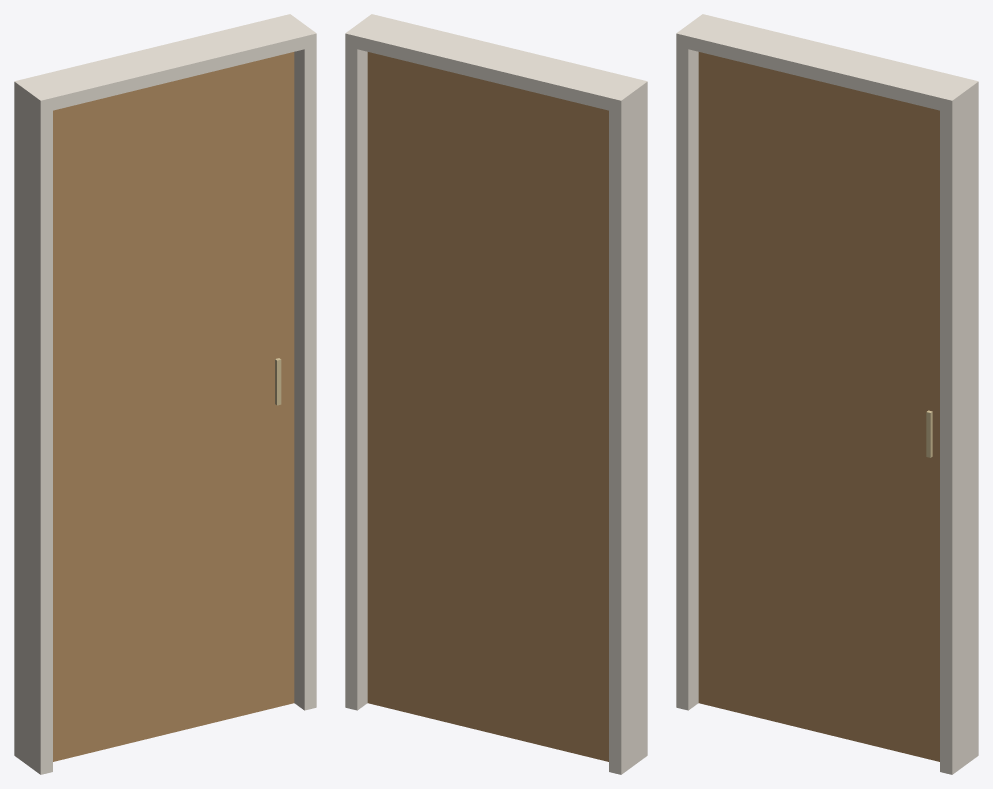
The model's file is porta_servico_90.obj.
3 views of the same model, side by side, from view 1: azimuth 30°, elevation 25°; view 2: azimuth 150°, elevation 25°; view 3: azimuth 330°, elevation 25° (orthographic).
Visible parts, largest first — view 1: porta_servico_90; view 2: porta_servico_90; view 3: porta_servico_90.
Boxes of the visible parts, box(x1,y1,x2,y2) form: porta_servico_90: box(14, 14, 316, 774); porta_servico_90: box(345, 14, 647, 774); porta_servico_90: box(676, 14, 978, 774).
Bounding box in the file's own units: 0.9 × 2.1 × 0.15.
